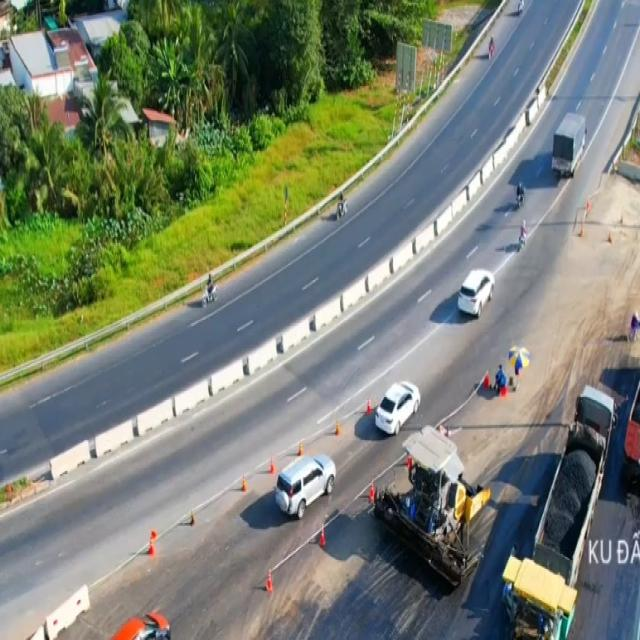car: (272, 447, 336, 525), (369, 378, 424, 434), (455, 266, 494, 320)
motorbike: (202, 273, 216, 307), (516, 220, 530, 252), (515, 179, 528, 210)
truck: (549, 110, 588, 180)
